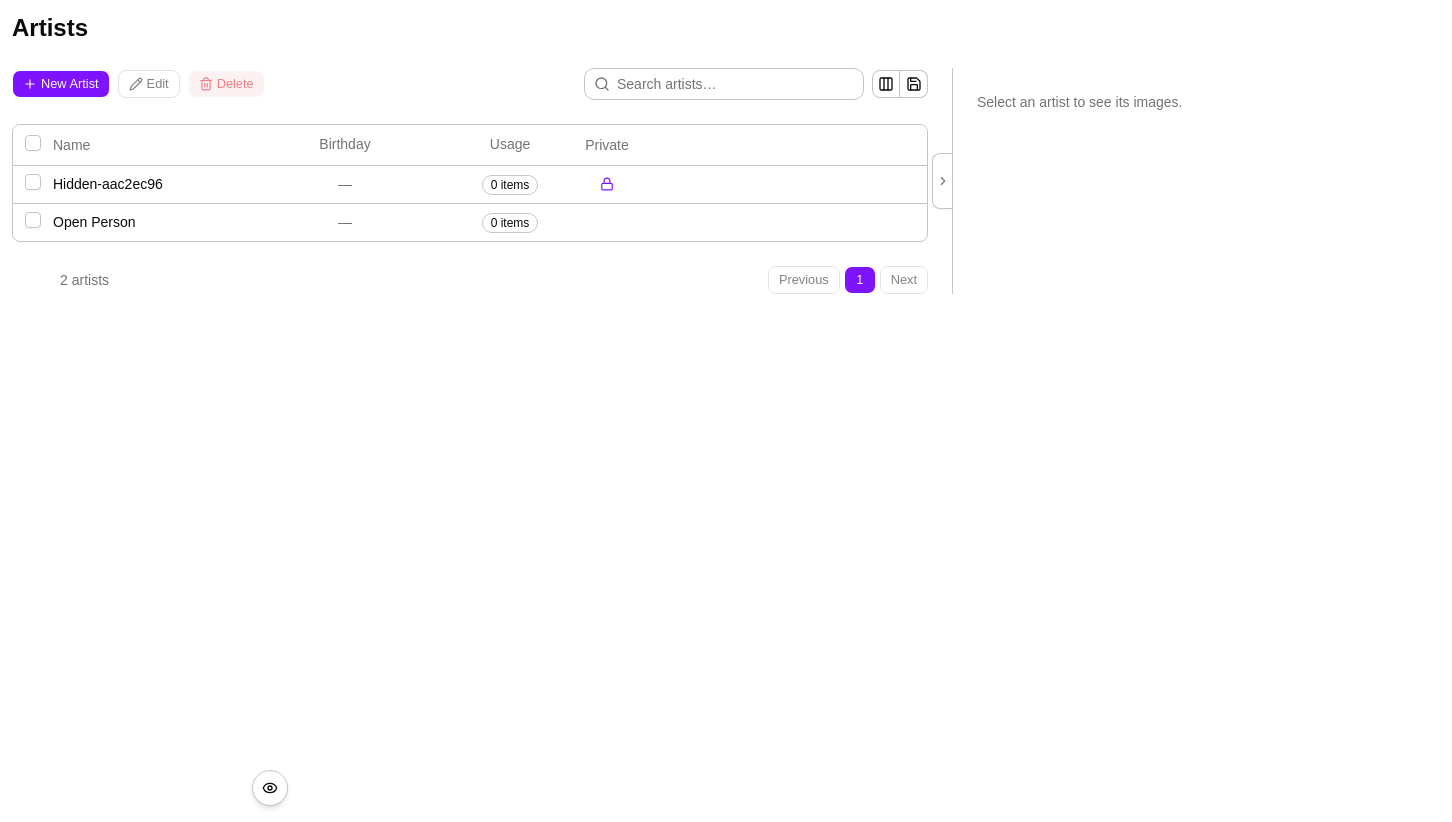
it: ArtistsPage private artist names › search matches the real name while the name is hashed
The image size is (1452, 822).
Type "hidden" into the field with placeholder "Search artists…". click: (724, 84)
box: [584,68,864,100]
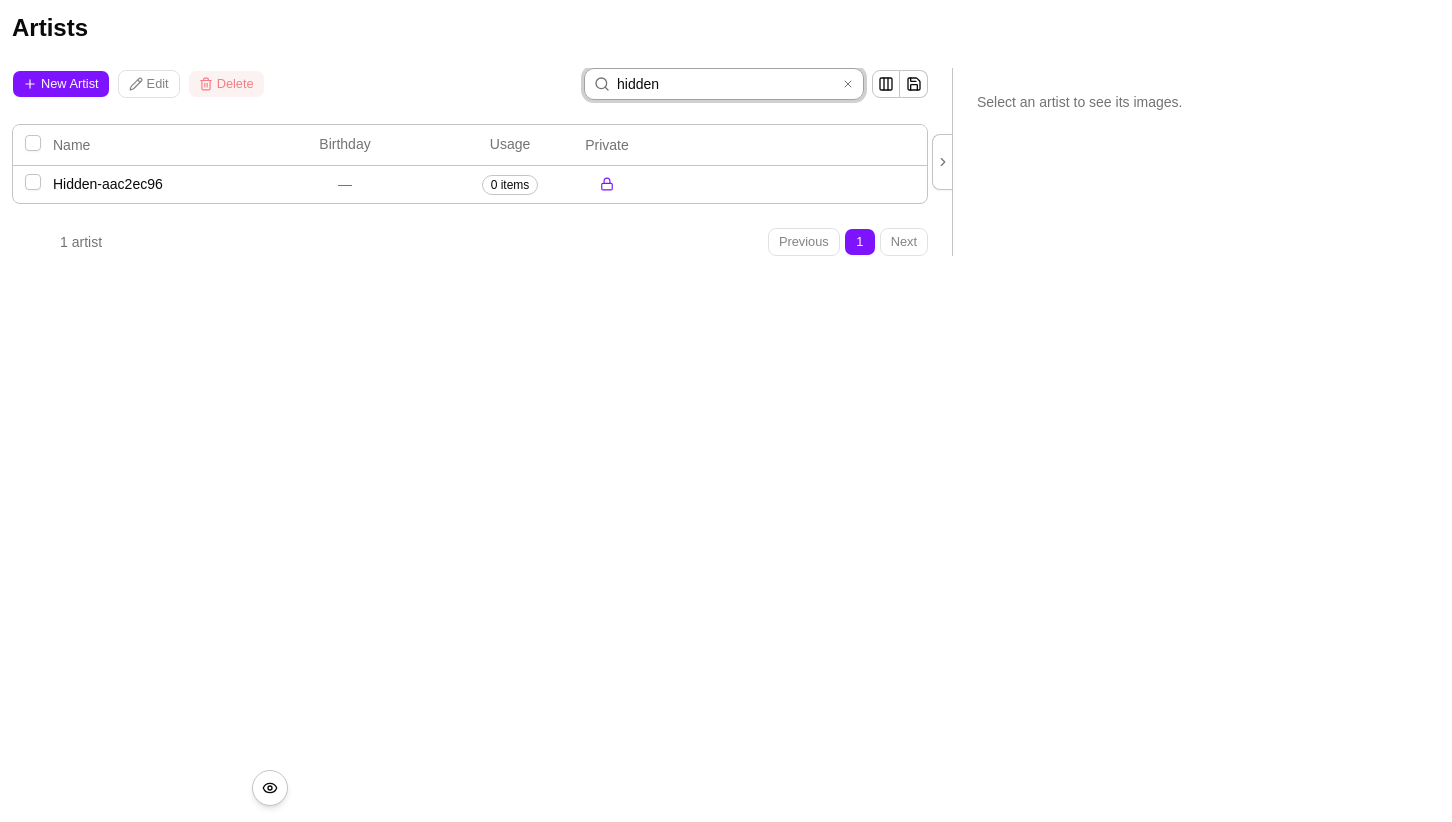
Expected: the text "Open Person" is gone
